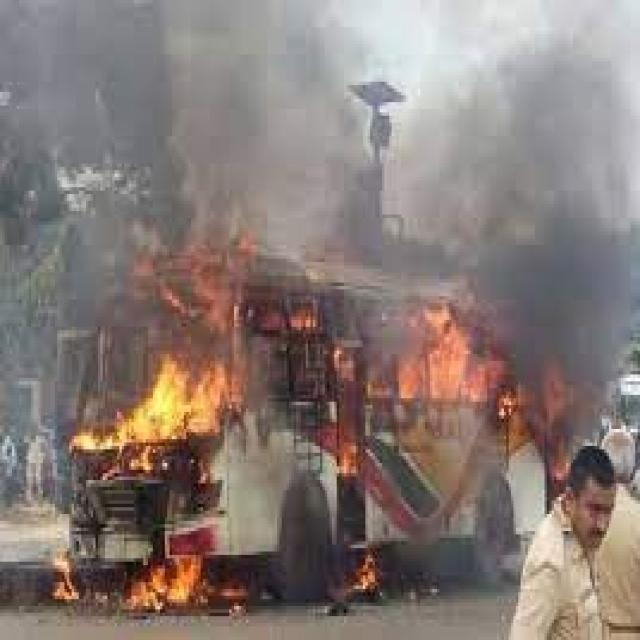fire: (69, 361, 239, 483), (373, 300, 511, 405), (131, 235, 263, 330), (122, 552, 203, 616), (270, 303, 329, 340), (43, 552, 76, 599), (353, 551, 387, 596)
smoke: (2, 4, 356, 279), (427, 24, 640, 419)
